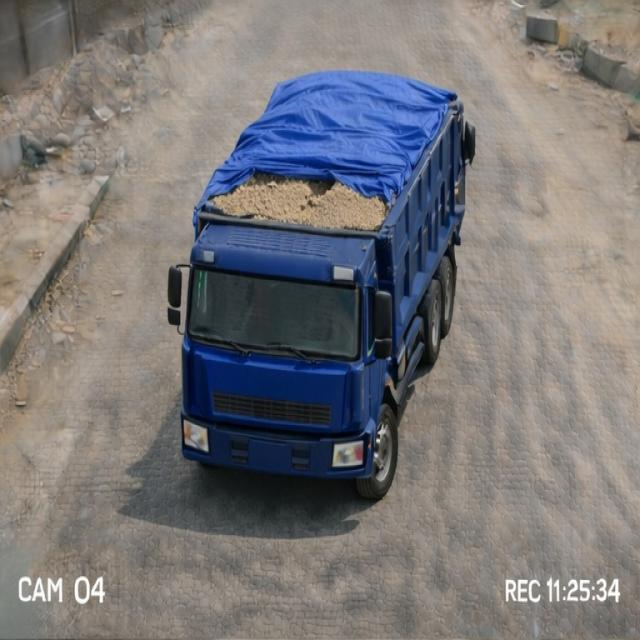Box: (192, 70, 459, 232)
Truck: (166, 63, 493, 487)
